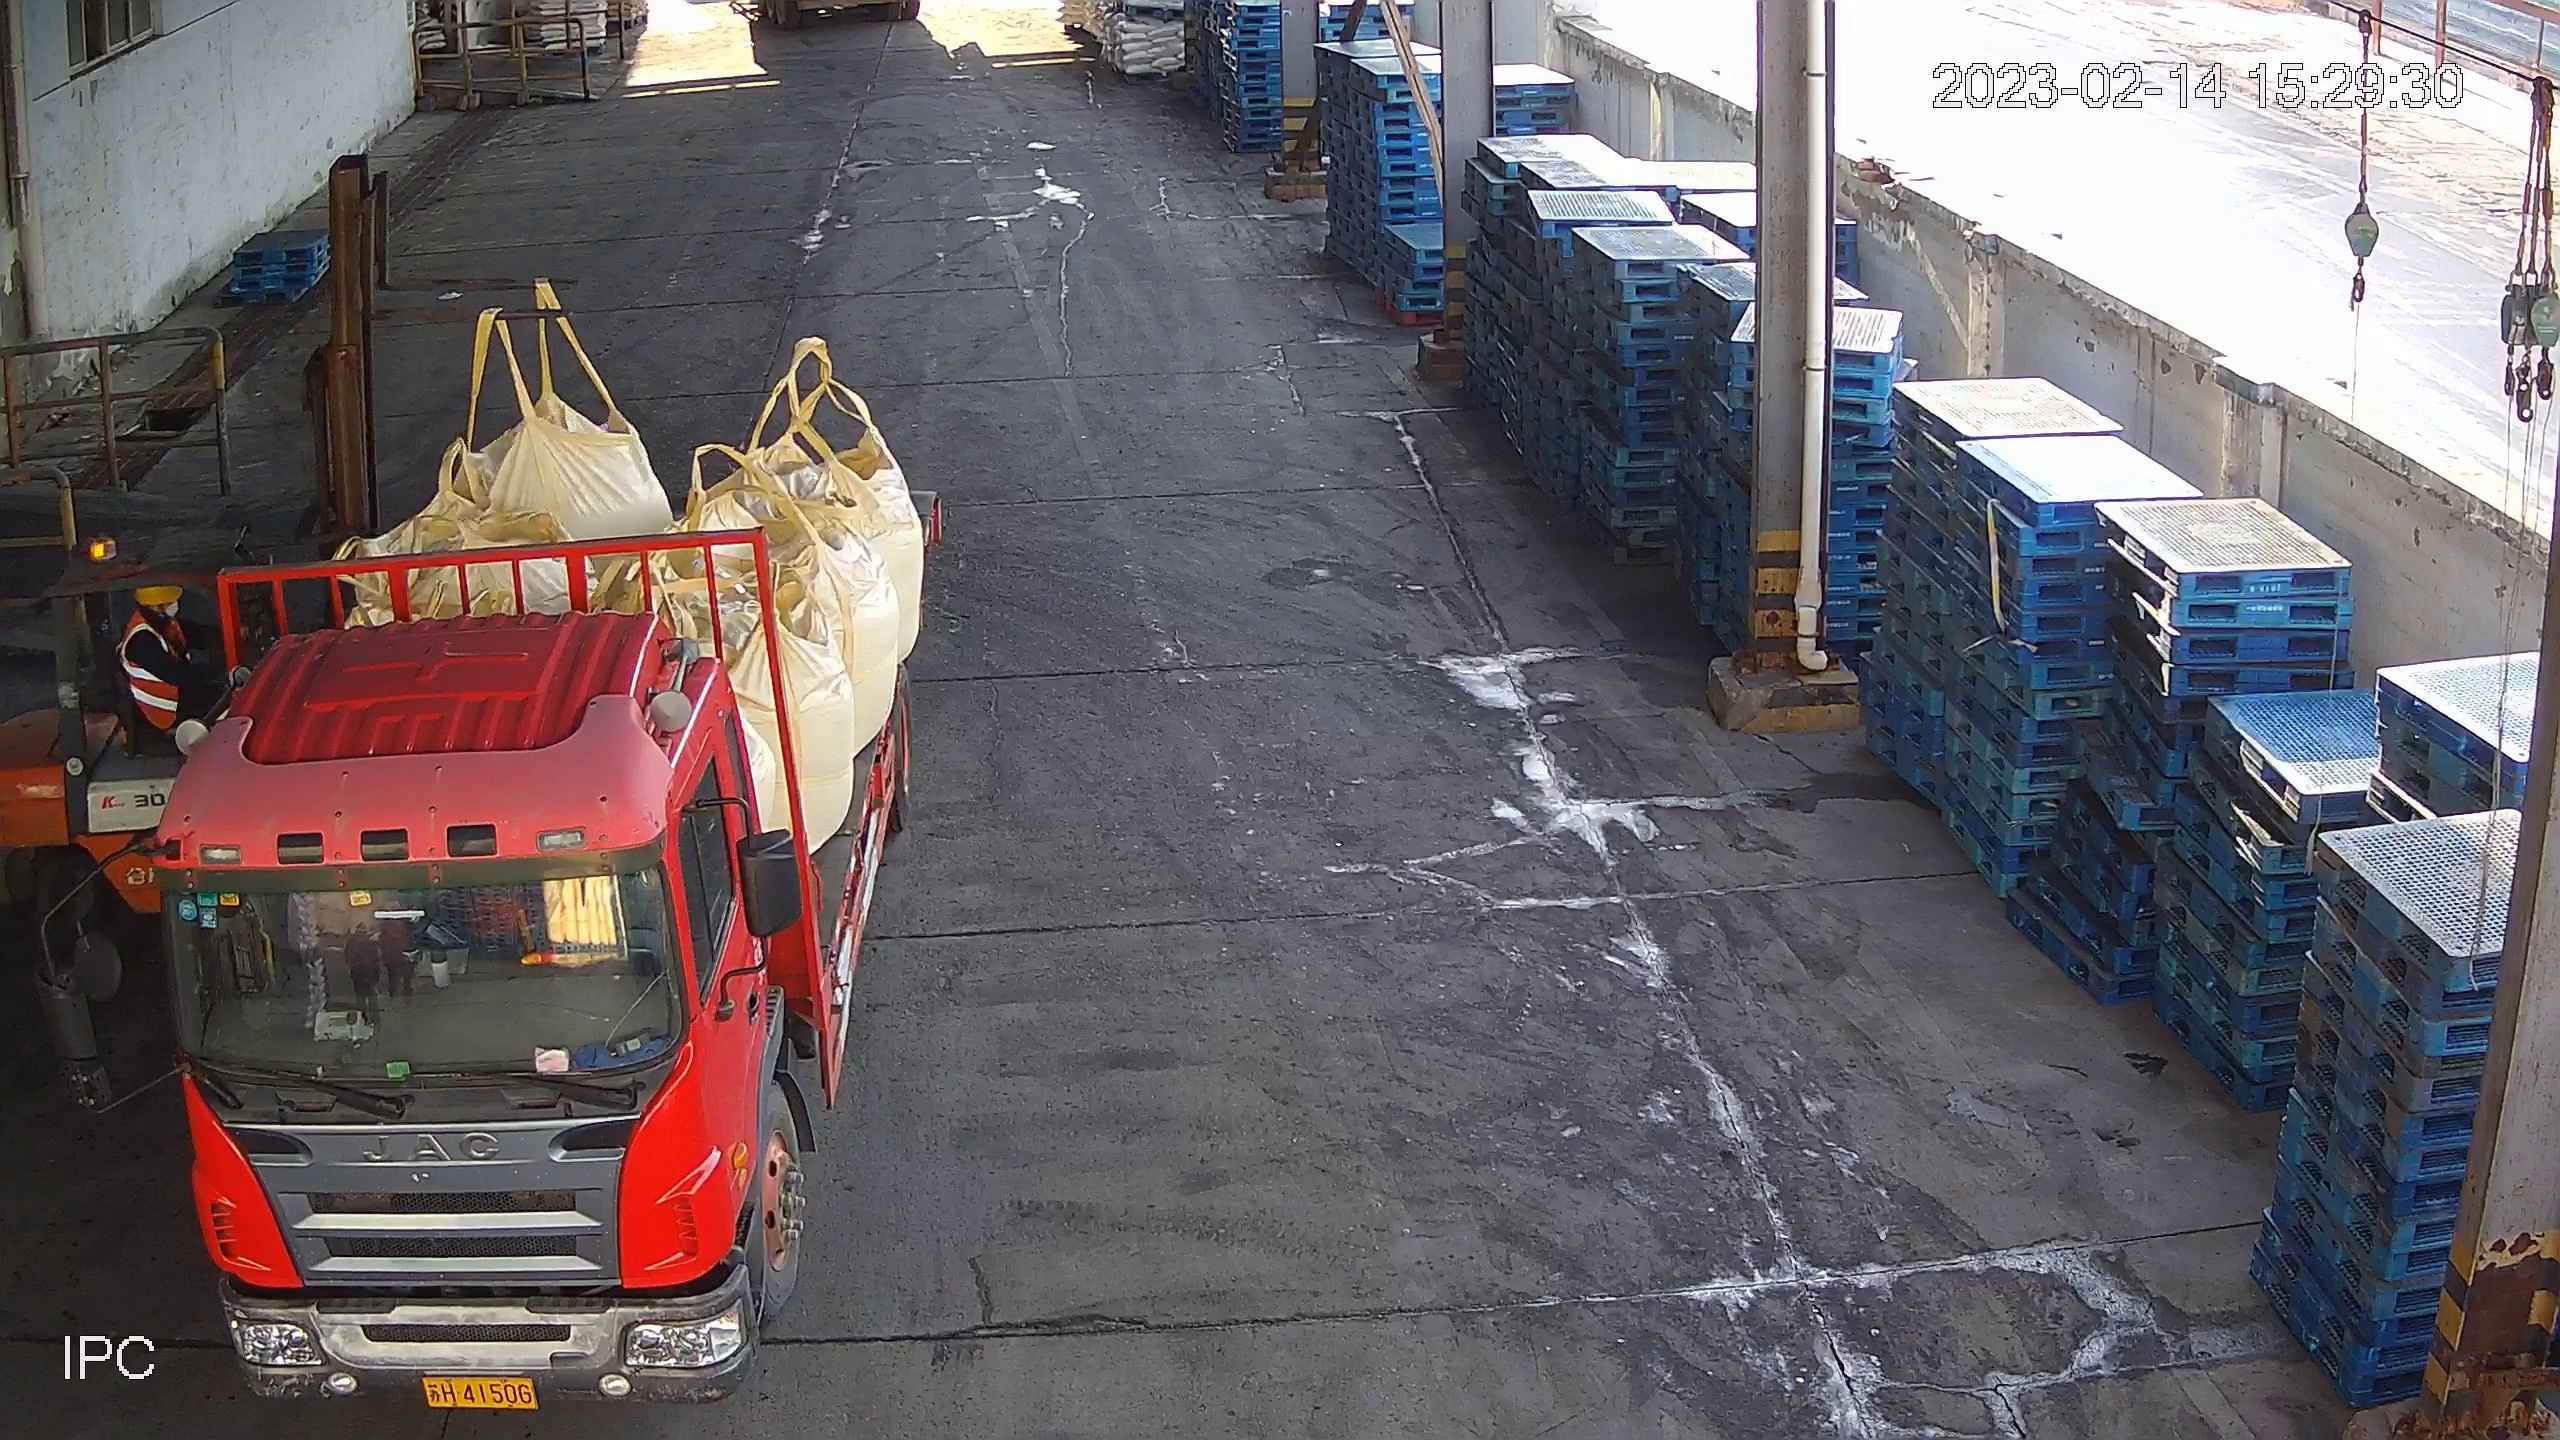people: (114, 583, 229, 729)
truck: (33, 485, 941, 1402)
